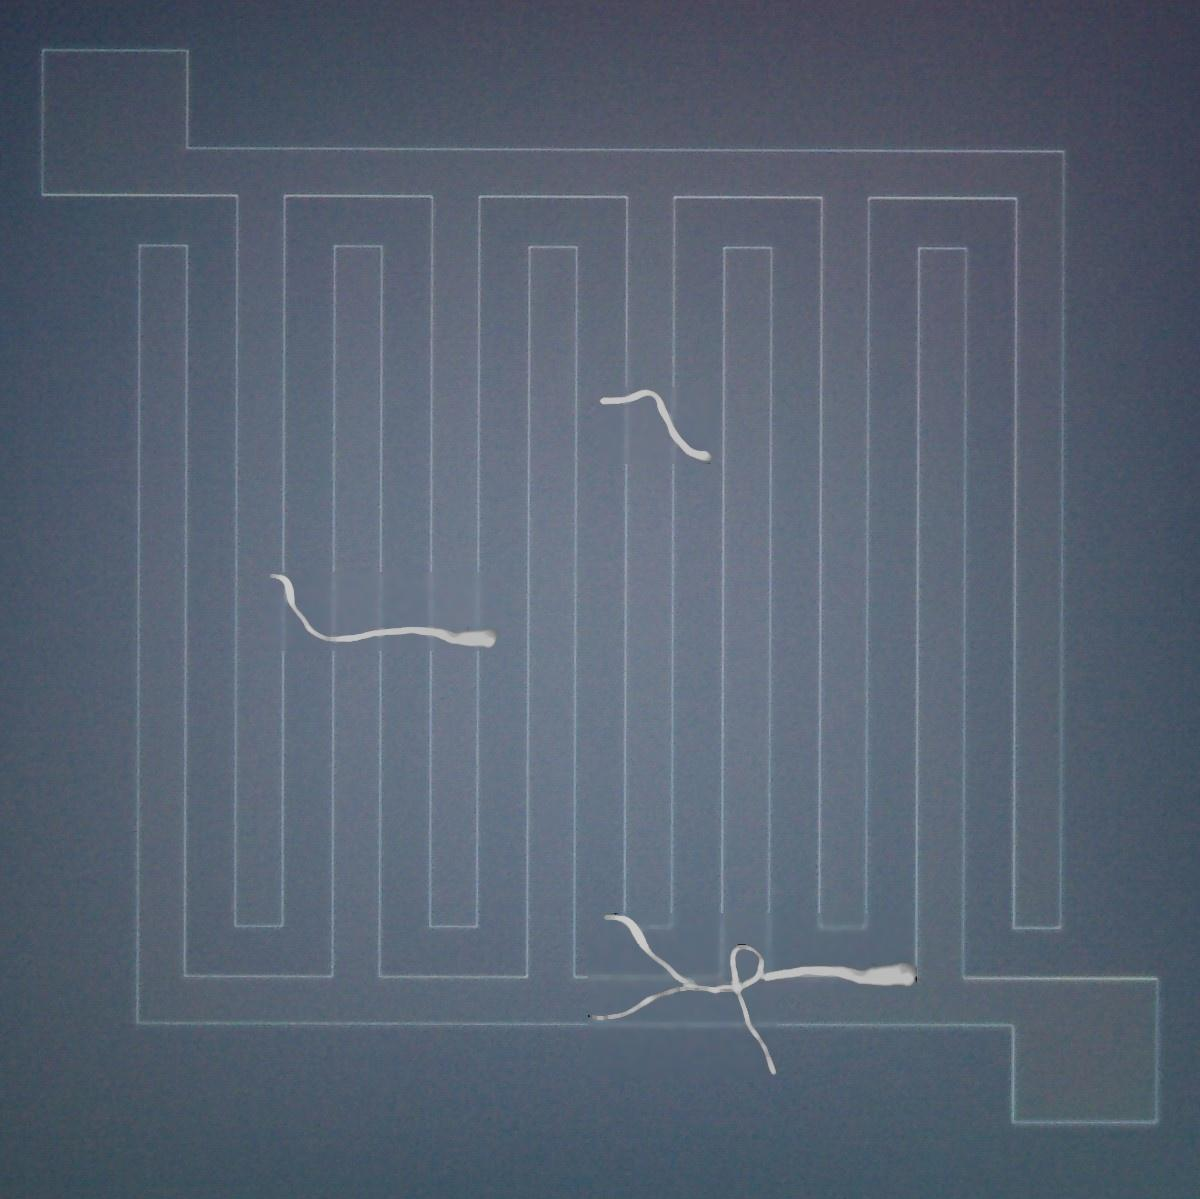foreign: (597, 906, 921, 991), (584, 942, 780, 1080), (269, 565, 500, 653), (588, 388, 718, 469)
